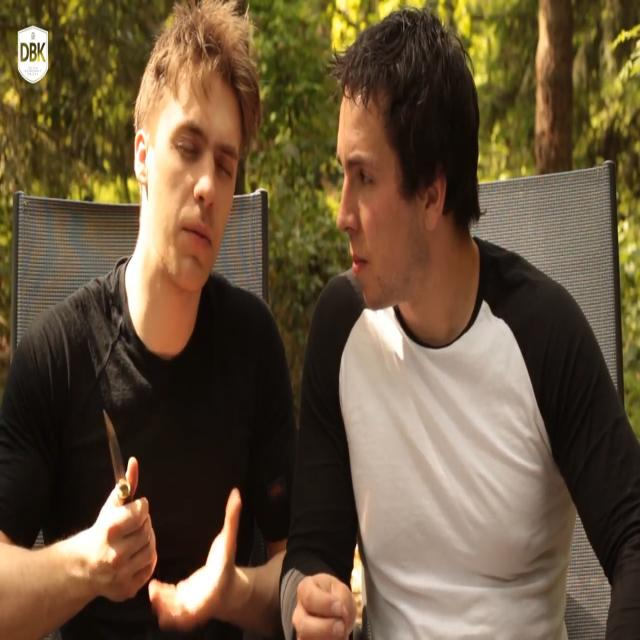knife: (101, 398, 135, 514)
